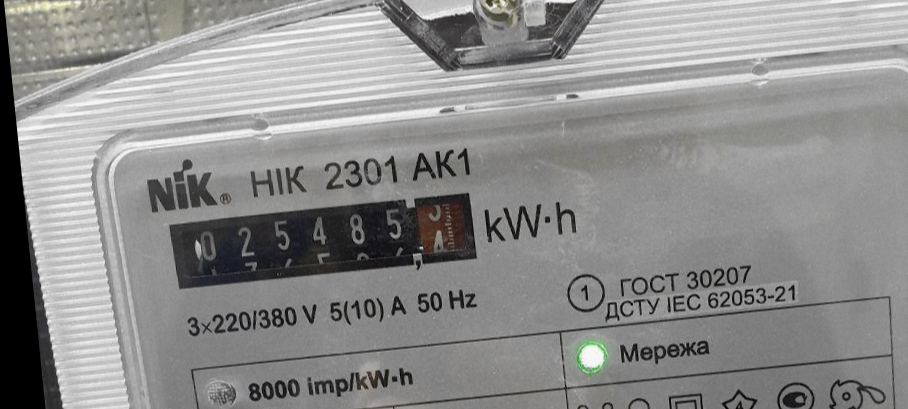0: (194, 225, 218, 262)
2: (233, 221, 256, 258)
4: (305, 211, 329, 247), (426, 225, 448, 255)
5: (379, 203, 404, 242), (268, 215, 292, 252)
8: (344, 207, 367, 247)
screen: (157, 182, 485, 301)
